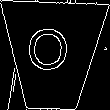O_S: (31, 29, 75, 82)
